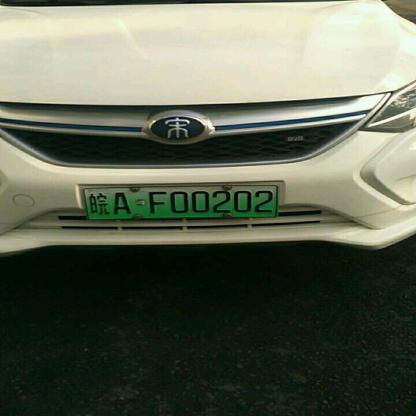lp: (84, 185, 276, 218)
